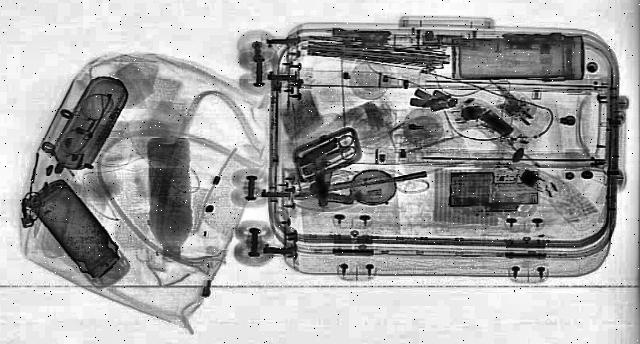Scissors: (300, 134, 378, 170)
